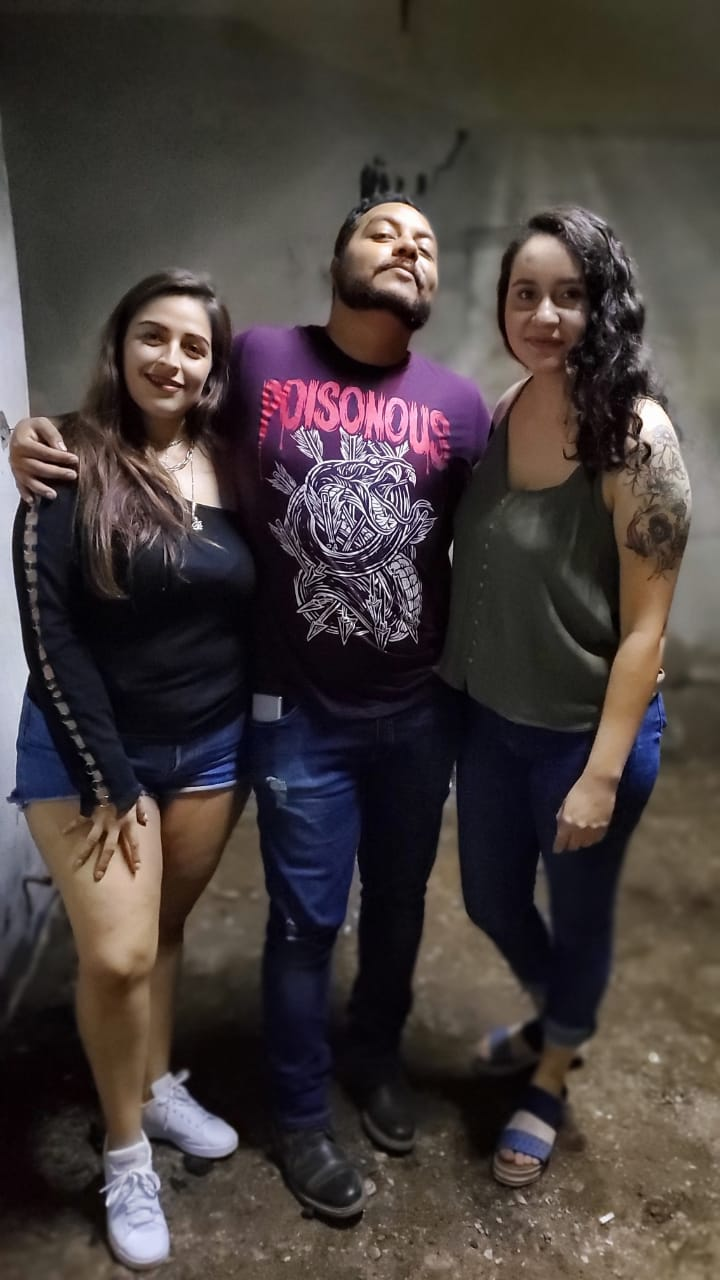Yoshi: (250, 138, 462, 466)
